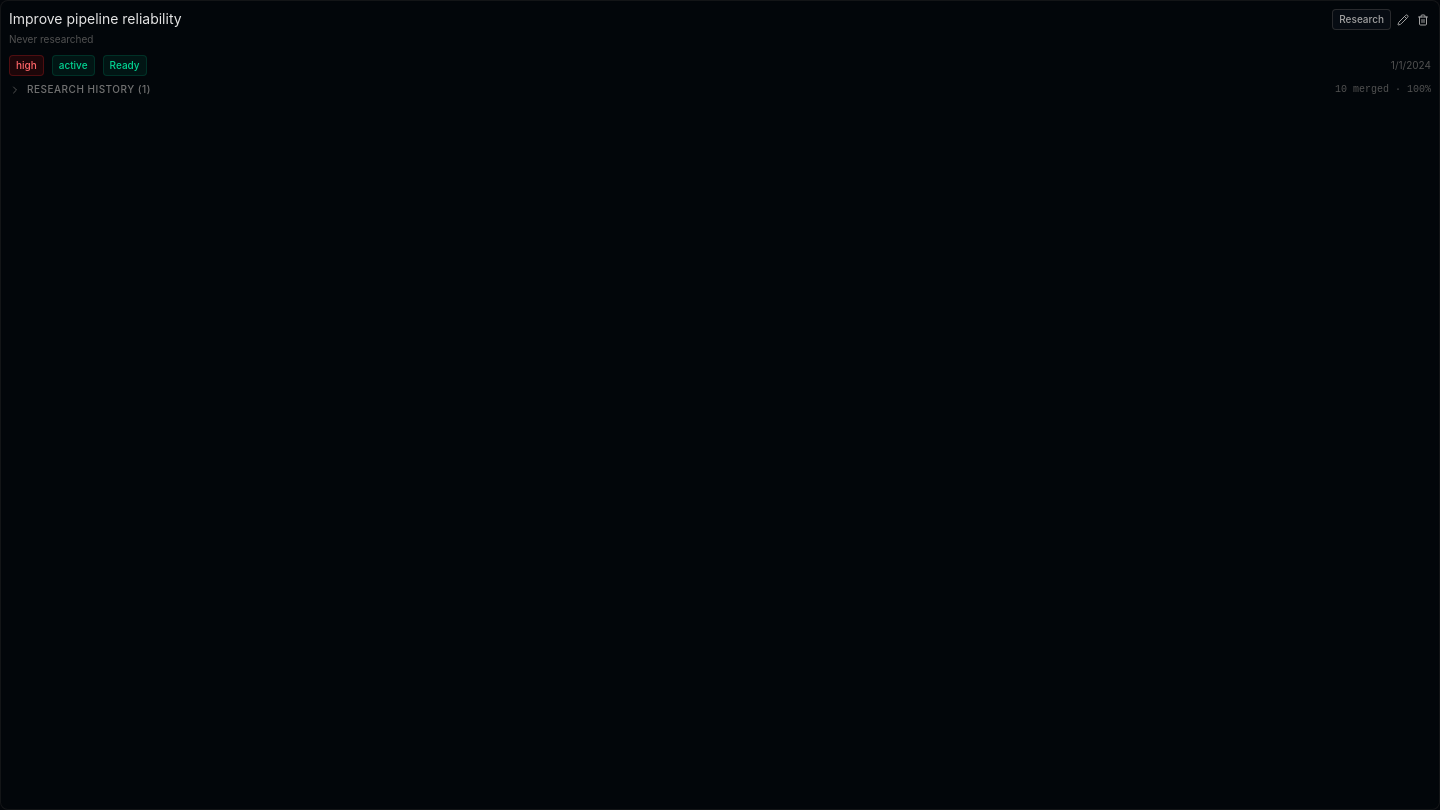
DirectionCard autonomous/assisted merge split › shows both auto and assisted badges when split
Click the button "Research History (1) 10 merged · 100%" at (85, 89), box [9,82,1431,97]
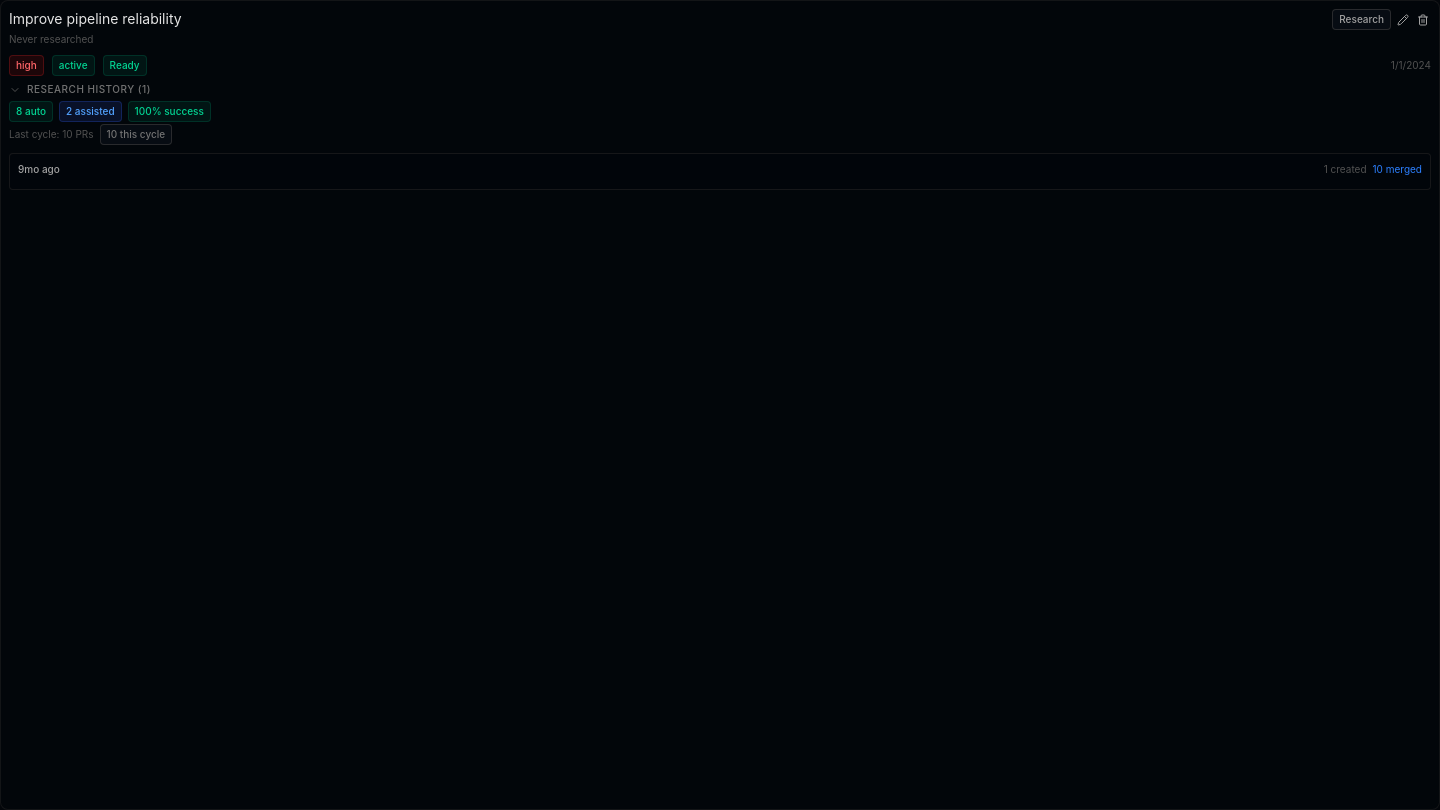
Check: the text "8 auto" is shown, box [9,101,53,122]
Check: the text "2 assisted" is shown, box [59,101,122,122]
